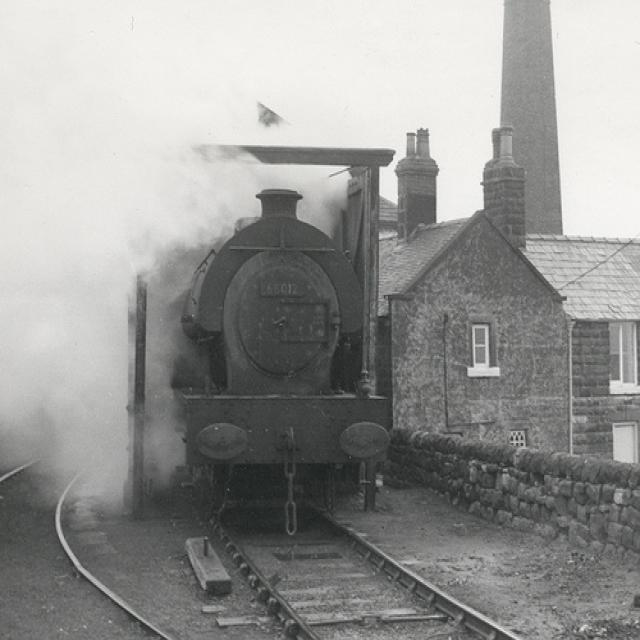train: (159, 185, 398, 518)
